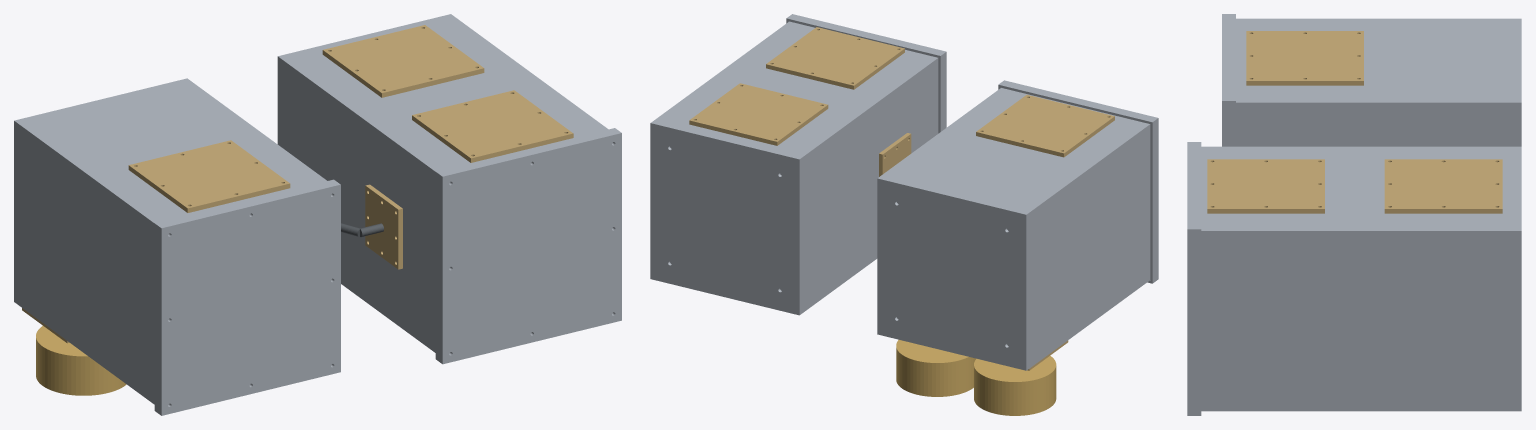
Rendered from assembly.glb.
The picture shows the model from 3 angles, left to right: view 1: azimuth 30°, elevation 25°; view 2: azimuth 150°, elevation 25°; view 3: azimuth 270°, elevation 25°; orthographic projection. The views are drawn at different scales.
Parts seen in each view (by area): view 1: winch-lid, power-compute-lid, winch-base, power-compute-riser, winch-riser, power-compute-base, winch-thermal-cap, power-compute-lower-thermal-cap, power-compute-upper-thermal-cap, drum-envelope-55, power-compute-hybrid-cap; view 2: winch-base, power-compute-base, winch-riser, power-compute-riser, power-compute-lower-thermal-cap, power-compute-upper-thermal-cap, winch-thermal-cap, drum-envelope-55, drum-envelope-175, winch-lid, power-compute-lid, power-compute-hybrid-cap; view 3: power-compute-riser, power-compute-base, winch-base, winch-riser, power-compute-lower-thermal-cap, winch-thermal-cap, power-compute-upper-thermal-cap, power-compute-lid, winch-lid.
Boxes of the visible parts, <box> form: winch-lid: <box>154,179,340,415</box>; power-compute-lid: <box>435,128,621,364</box>; winch-base: <box>14,78,264,358</box>; power-compute-riser: <box>356,71,608,352</box>; winch-riser: <box>92,135,326,404</box>; power-compute-base: <box>277,14,528,294</box>; winch-thermal-cap: <box>128,140,290,212</box>; power-compute-lower-thermal-cap: <box>322,25,484,97</box>; power-compute-upper-thermal-cap: <box>412,90,573,162</box>; drum-envelope-55: <box>36,326,126,395</box>; power-compute-hybrid-cap: <box>365,184,402,269</box>; winch-base: <box>877,129,1093,370</box>; power-compute-base: <box>650,74,866,315</box>; winch-riser: <box>945,88,1150,321</box>; power-compute-riser: <box>718,21,938,265</box>; power-compute-lower-thermal-cap: <box>689,83,828,145</box>; power-compute-upper-thermal-cap: <box>766,27,904,89</box>; winch-thermal-cap: <box>976,95,1114,157</box>; drum-envelope-55: <box>974,355,1056,415</box>; drum-envelope-175: <box>896,340,975,396</box>; winch-lid: <box>998,80,1158,283</box>; power-compute-lid: <box>786,14,946,133</box>; power-compute-hybrid-cap: <box>879,133,911,176</box>; power-compute-riser: <box>1201,146,1365,411</box>; power-compute-base: <box>1365,146,1521,411</box>; winch-base: <box>1365,18,1521,146</box>; winch-riser: <box>1236,18,1365,146</box>; power-compute-lower-thermal-cap: <box>1384,159,1502,213</box>; winch-thermal-cap: <box>1246,31,1363,85</box>; power-compute-upper-thermal-cap: <box>1207,159,1324,213</box>; power-compute-lid: <box>1187,142,1201,415</box>; winch-lid: <box>1222,14,1235,146</box>.
Bounding box in the file's own units: 0.588 × 0.316 × 0.386.
